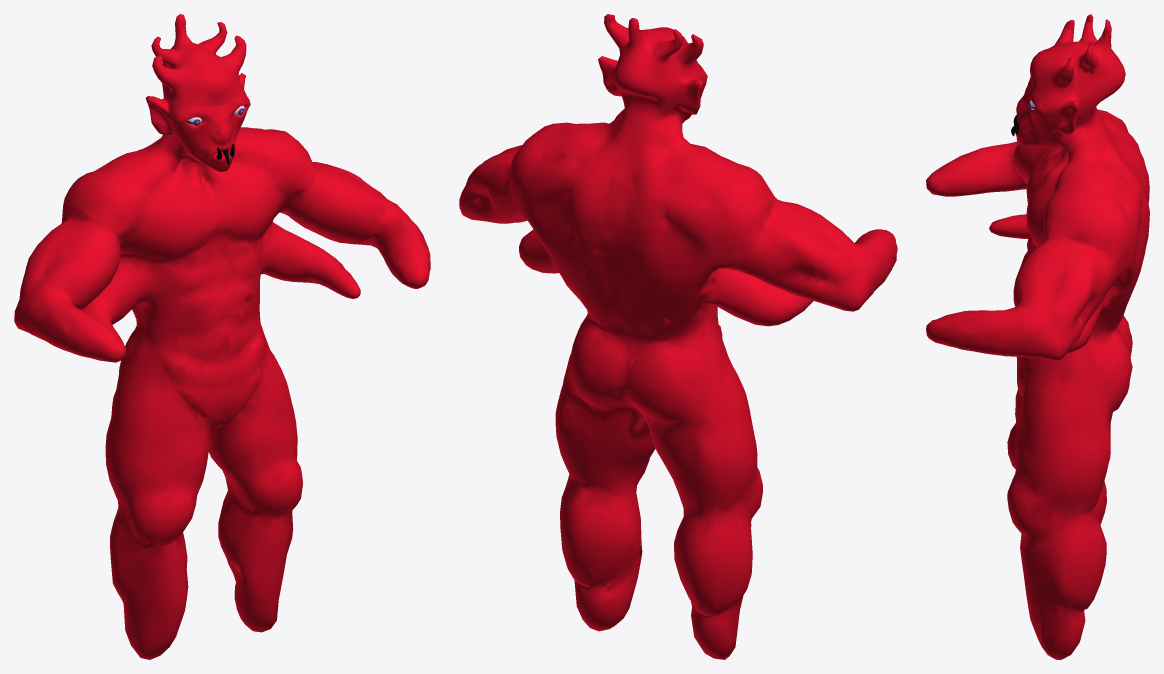
The model's file is demonboss.fbx.
3 renders of one model, left to right at view 1: azimuth 30°, elevation 25°; view 2: azimuth 150°, elevation 25°; view 3: azimuth 270°, elevation 25°, orthographic. The views are drawn at different scales.
Parts seen in each view (by area): view 1: Icosphere; view 2: Icosphere; view 3: Icosphere.
Boxes of the visible parts, left/top/right/bottom form: Icosphere: left=14, top=14, right=430, bottom=659; Icosphere: left=459, top=14, right=897, bottom=659; Icosphere: left=926, top=14, right=1149, bottom=659.
Size of the model in its own units: 1198 by 1829 by 608.
